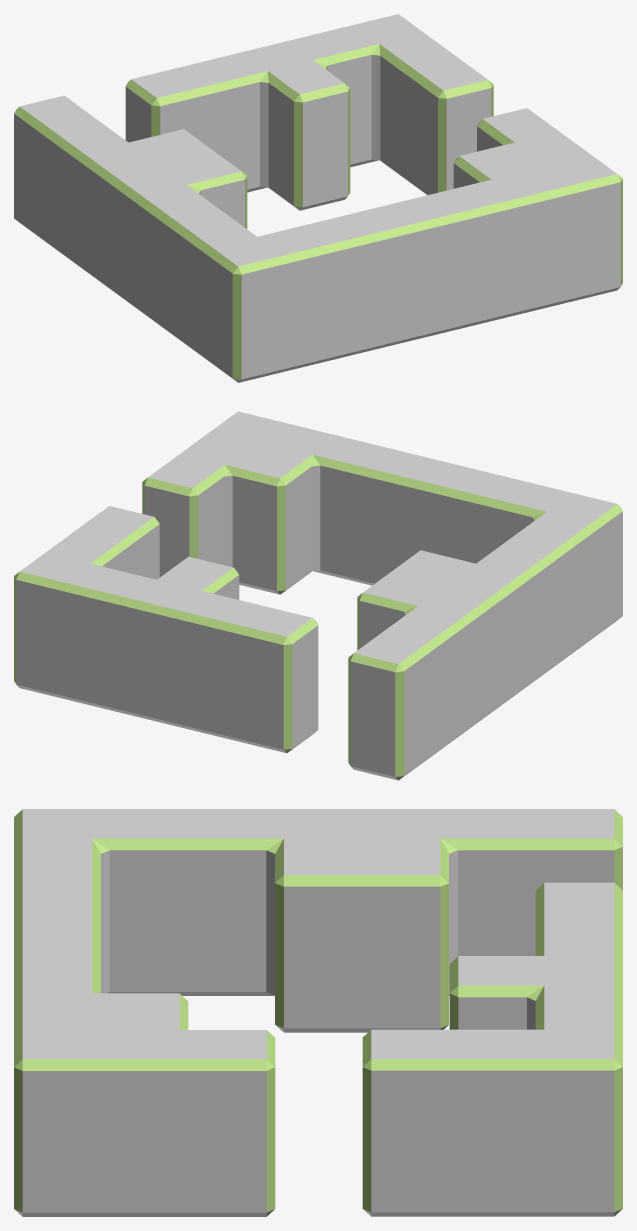
File: Lvl4.fbx
3 views of the same model, one above another, from view 1: azimuth 30°, elevation 25°; view 2: azimuth 150°, elevation 25°; view 3: azimuth 270°, elevation 25° (orthographic). The views are drawn at different scales.
Parts seen in each view (by area): view 1: Cube.038; view 2: Cube.038; view 3: Cube.038.
Part boxes in pixels (x1,y1,x2,y2): Cube.038: [14, 14, 622, 382]; Cube.038: [14, 411, 622, 780]; Cube.038: [14, 809, 622, 1216].
Size of the model in its own units: 7 by 2 by 6.99.
